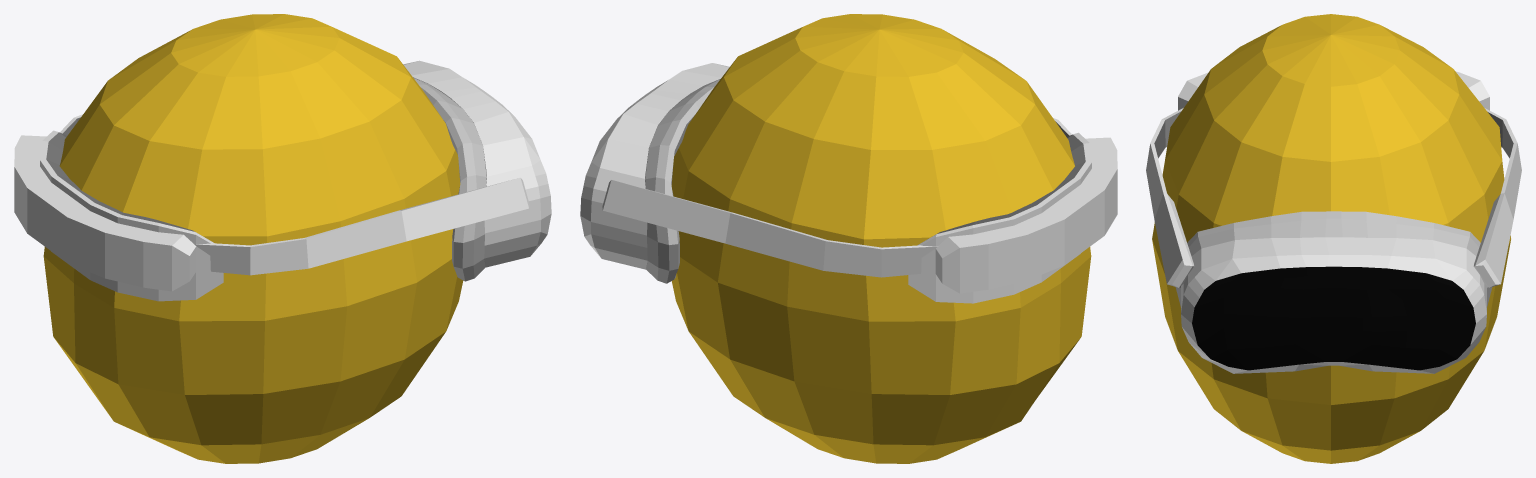
File: cabeza con  pico 4.fbx
3 renders of one model, left to right at view 1: azimuth 30°, elevation 25°; view 2: azimuth 150°, elevation 25°; view 3: azimuth 270°, elevation 25°, orthographic. The views are drawn at different scales.
Visible parts, largest first — view 1: Sphere, Pico 4; view 2: Sphere, Pico 4; view 3: Sphere, Pico 4.
Part boxes in pixels (bbox=[...]): Sphere: bbox=[43, 14, 463, 463]; Pico 4: bbox=[14, 60, 551, 301]; Sphere: bbox=[671, 14, 1091, 463]; Pico 4: bbox=[580, 63, 1117, 303]; Sphere: bbox=[1152, 14, 1510, 463]; Pico 4: bbox=[1146, 71, 1521, 373].
Size of the model in its own units: 887 by 797 by 665.
